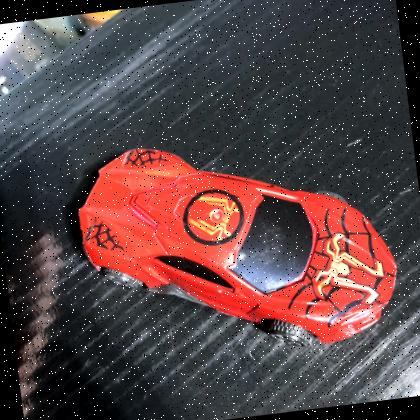Car: (76, 148, 398, 347)
